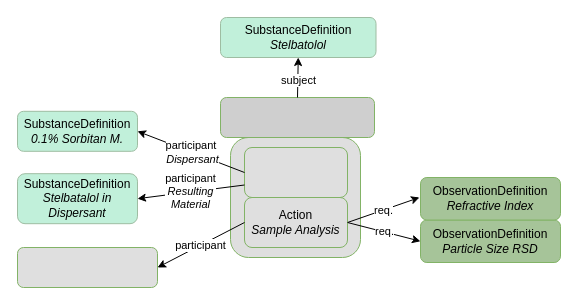
Some shapes in this 578 by 305 pixel diagram are drawn without their labels. Here are the shapes that lost their labels. From the top down, the centre of each, then its label:
point 297,117: PlanDefinition Analytical Procedures
point 296,172: Action Sample Preparation
point 87,267: DeviceDefinition Particle Size Analyser
